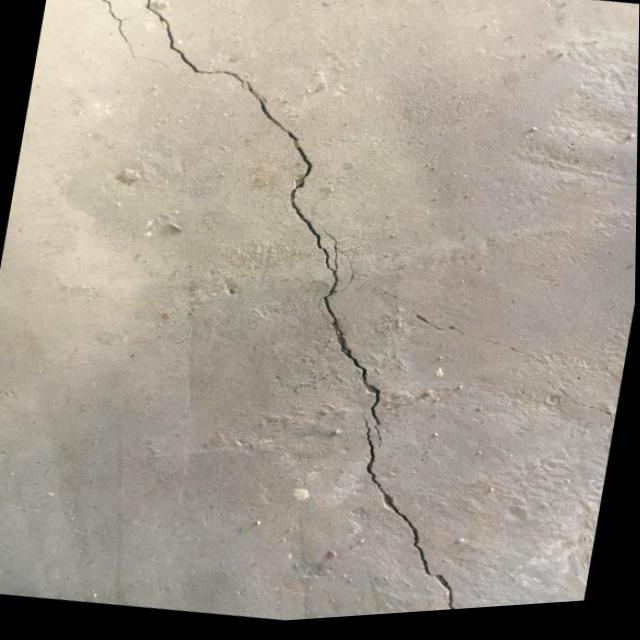Crack: (122, 0, 338, 187), (253, 190, 419, 429), (340, 463, 491, 622)
